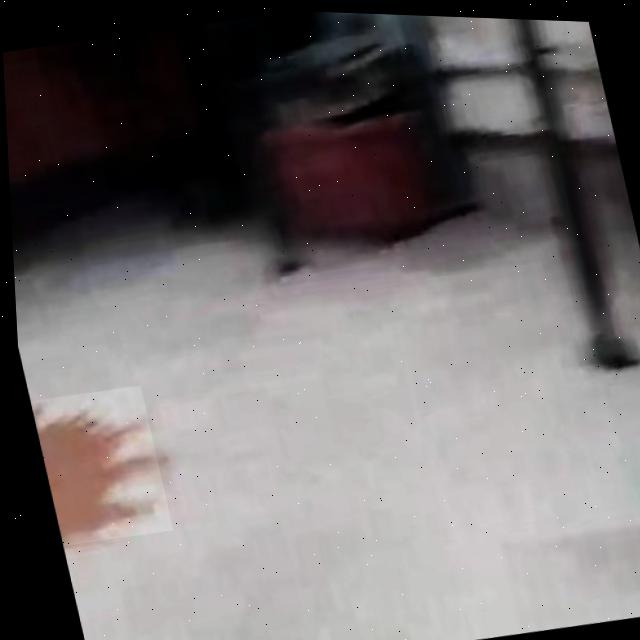spillage: (26, 401, 154, 545)
